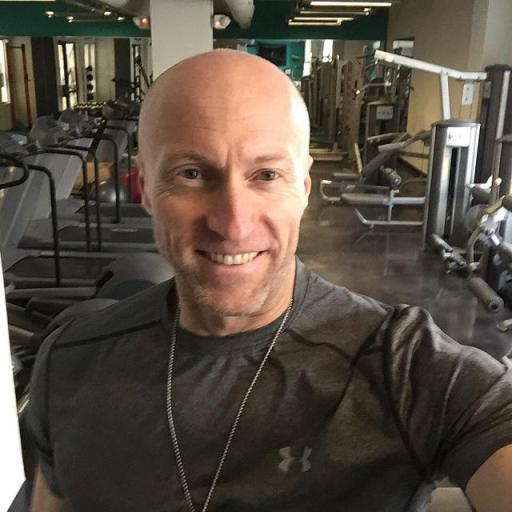Under Armour: (275, 441, 315, 477)
